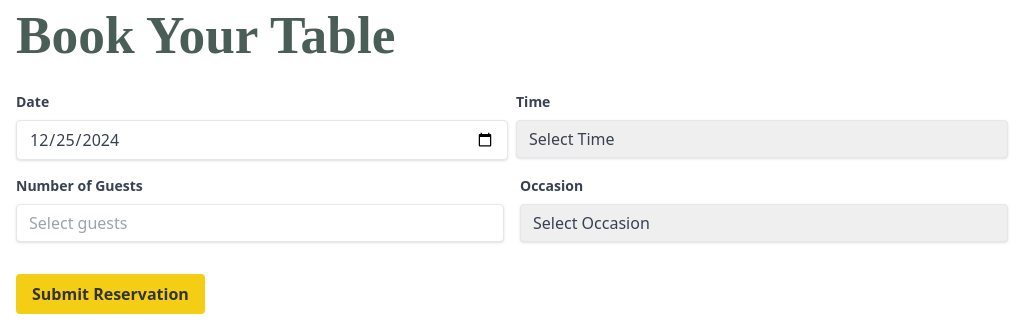
Test: BookingForm Validation › displays validation errors when the form is submitted with invalid data
Click the button "Submit Reservation" at (110, 294), box x1=16 y1=274 x2=205 y2=314
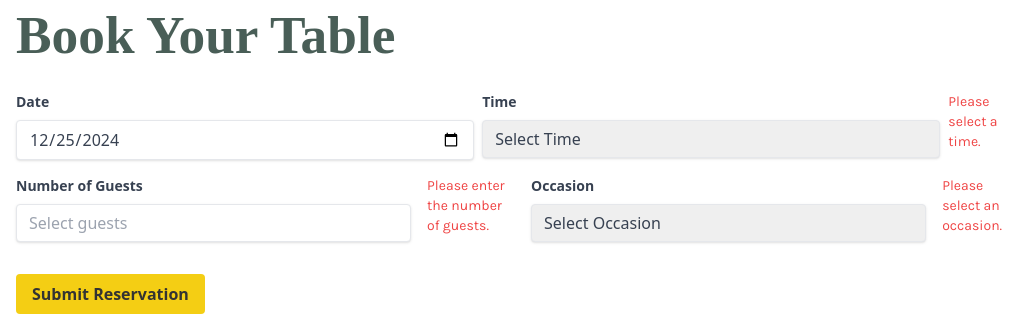
Now the text "Please select a time." is shown, box x1=948 y1=93 x2=998 y2=150
Now the text "Please enter the number of guests." is shown, box x1=427 y1=176 x2=515 y2=258
Now the text "Please select an occasion." is shown, box x1=942 y1=176 x2=1008 y2=258
